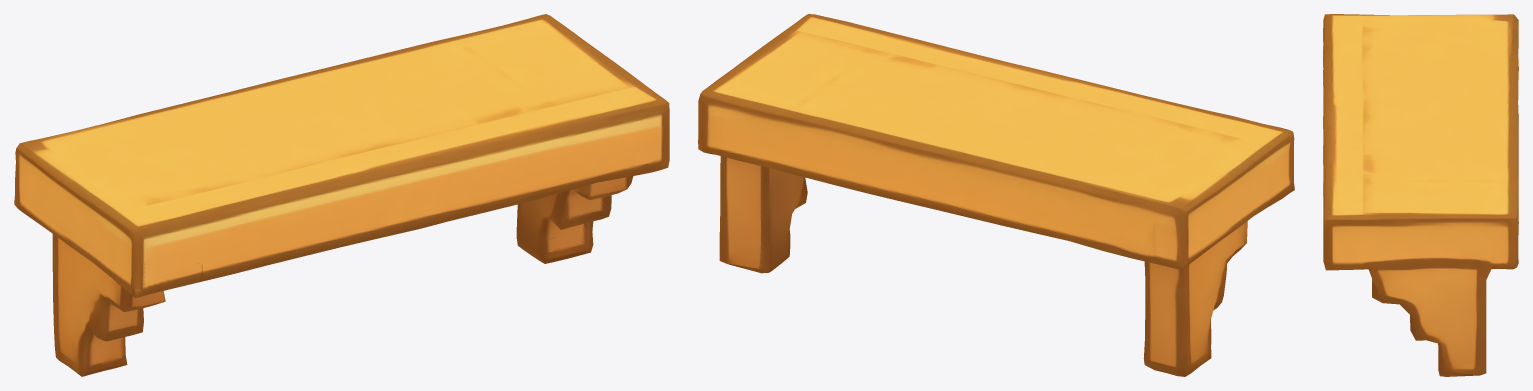
File: 08-shelf.fbx
The picture shows the model from 3 angles, left to right: view 1: azimuth 30°, elevation 25°; view 2: azimuth 150°, elevation 25°; view 3: azimuth 270°, elevation 25°; orthographic projection. The views are drawn at different scales.
Visible parts, largest first — view 1: model; view 2: model; view 3: model.
Boxes of the visible parts, x1,y1,x2,y2 form: model: (14,14,669,376); model: (698,14,1294,376); model: (1323,14,1518,376).
Size of the model in its own units: 190 by 68.94 by 76.08.
